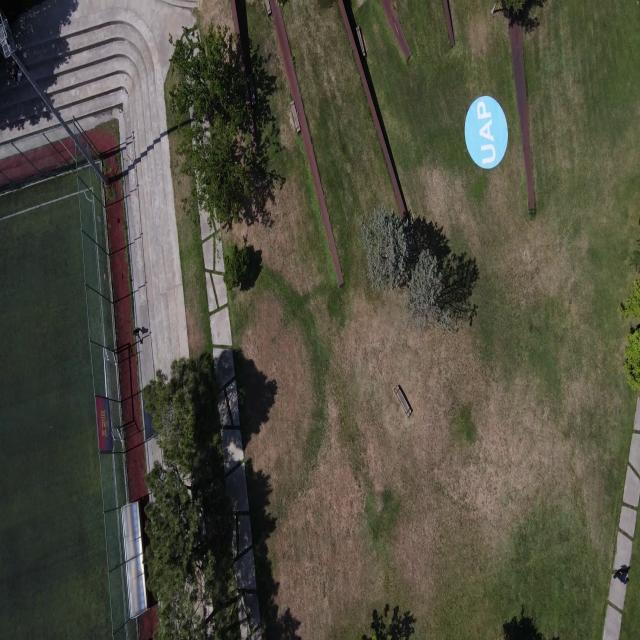p3rson: (612, 570, 630, 584), (132, 326, 142, 344)
